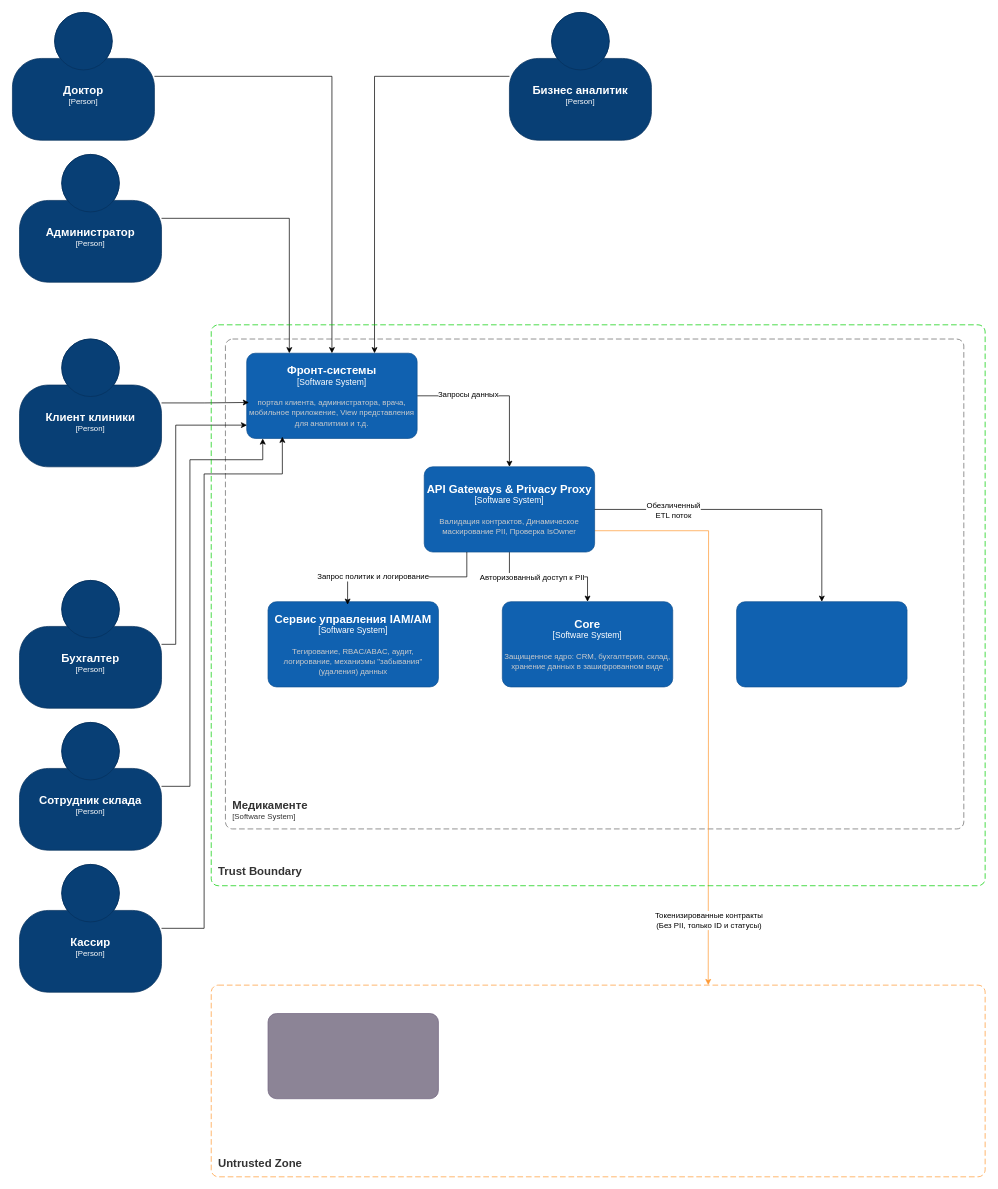
This 998x1189 diagram has some shape labels left out. Here are the shapes that lost their labels. From the top down, the centre of each, then its label:
the point at 821,644: Secure Data Lake [Software System] Слой аналитики, BI/ML/AI
the point at 352,1056: Лаборатория анализов [Software System]
